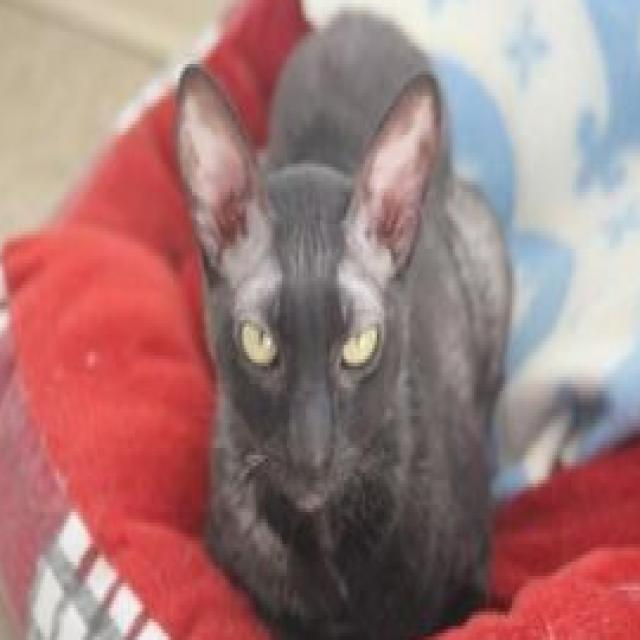Cornish Rex: (171, 0, 519, 640)
